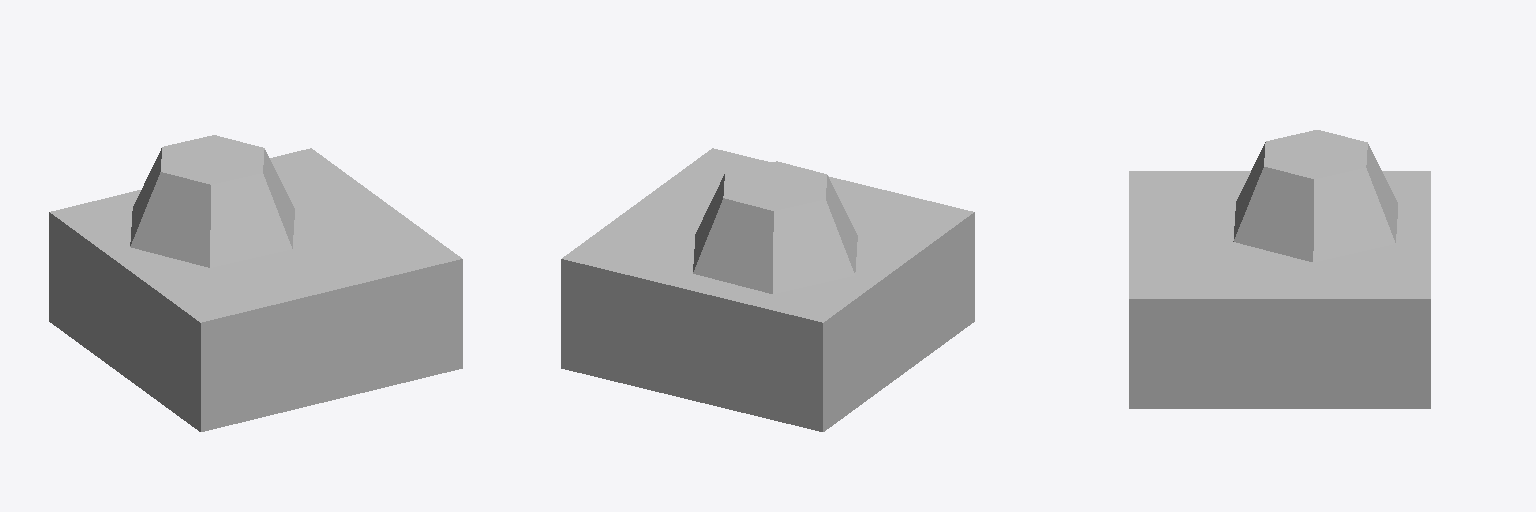
The model's file is tile_077.obj.
The picture shows the model from 3 angles: view 1: azimuth 30°, elevation 25°; view 2: azimuth 150°, elevation 25°; view 3: azimuth 270°, elevation 25°; orthographic projection.
Visible parts, largest first — view 1: tile_077, Group; view 2: tile_077, Group; view 3: tile_077, Group.
Part boxes in pixels (x1,y1,x2,y2): tile_077: (49, 148, 462, 431); Group: (130, 135, 294, 267); tile_077: (561, 148, 974, 431); Group: (693, 161, 857, 293); tile_077: (1129, 171, 1430, 408); Group: (1233, 130, 1397, 262).
Size of the model in its own units: 1 by 0.65 by 1.